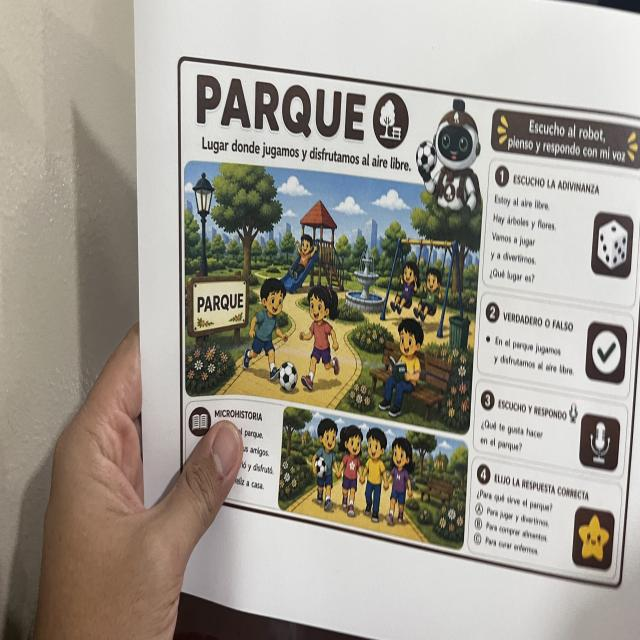parque: (173, 49, 640, 596)
